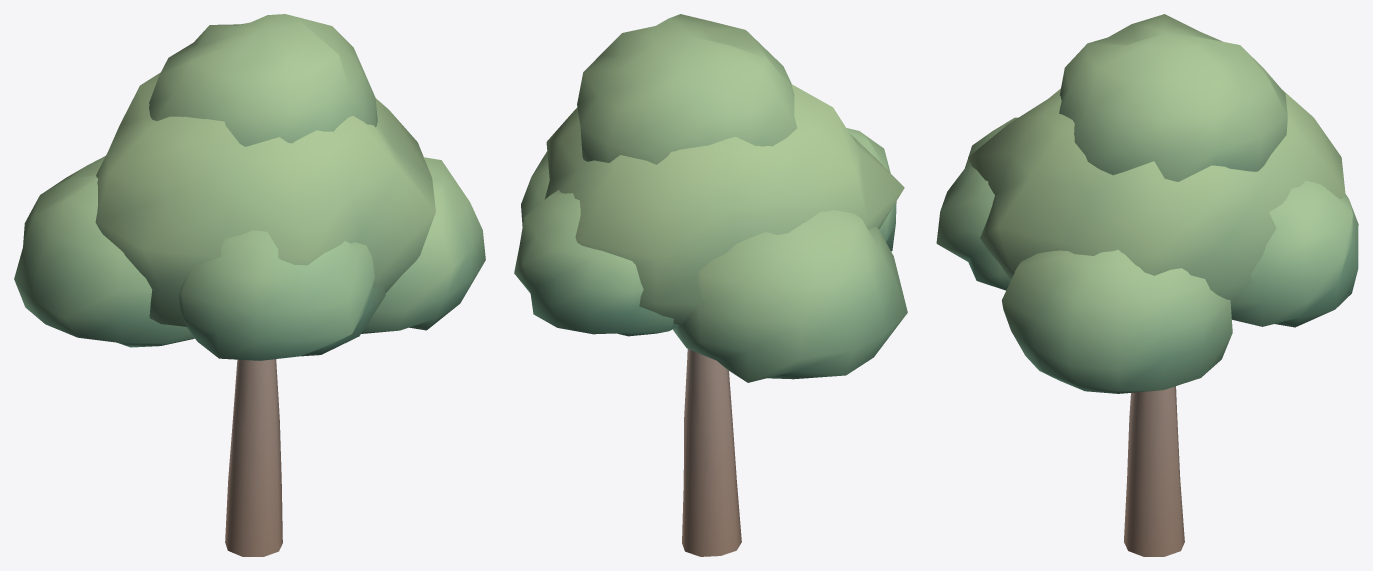
The model's file is laubbaum.glb.
The picture shows the model from 3 angles, left to right: view 1: azimuth 30°, elevation 25°; view 2: azimuth 150°, elevation 25°; view 3: azimuth 270°, elevation 25°; orthographic projection.
Visible parts, largest first — view 1: laubbaum2; view 2: laubbaum2; view 3: laubbaum2.
Part boxes in pixels (x1=…): laubbaum2: x1=14, y1=14, x2=485, y2=556; laubbaum2: x1=514, y1=14, x2=907, y2=556; laubbaum2: x1=936, y1=14, x2=1358, y2=556.
Bounding box in the file's own units: 4.57 × 5.58 × 4.1.
